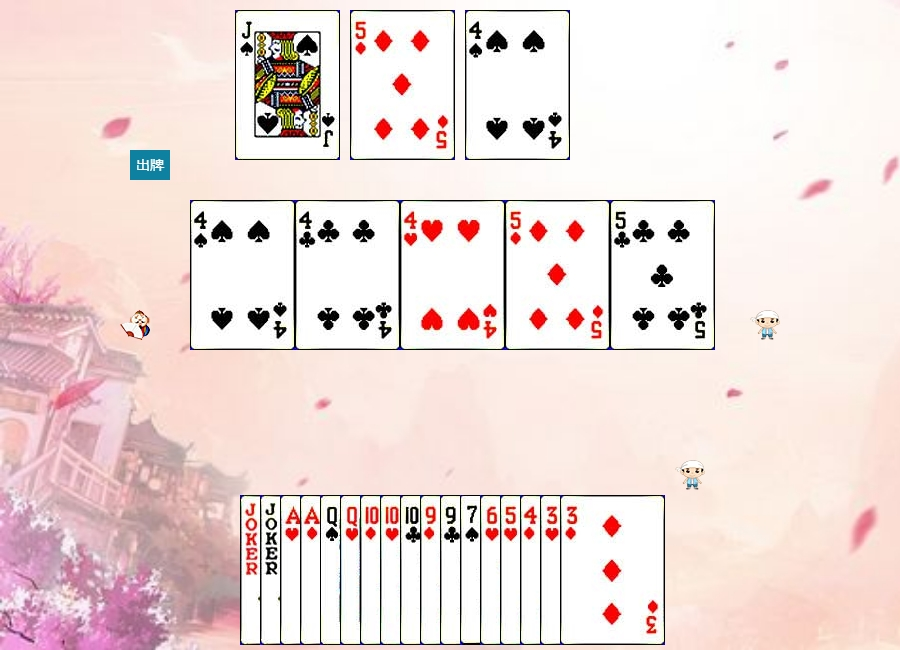10~1: (360, 495, 465, 645)
10~2: (400, 495, 505, 645)
10~3: (380, 495, 485, 645)
11~4: (235, 10, 340, 160)
12~3: (340, 495, 445, 645)
12~4: (320, 495, 425, 645)
14~1: (300, 495, 405, 645)
14~3: (280, 495, 385, 645)
17~3: (260, 495, 365, 645)
18~4: (240, 495, 345, 645)
3~1: (560, 495, 665, 645)
3~3: (540, 495, 645, 645)
4~1: (520, 495, 625, 645)
4~2: (295, 200, 400, 350)
4~3: (400, 200, 505, 350)
4~4: (465, 10, 570, 160), (190, 200, 295, 350)
5~1: (350, 10, 455, 160), (505, 200, 610, 350)
5~2: (610, 200, 715, 350)
5~3: (500, 495, 605, 645)
6~3: (480, 495, 585, 645)
7~4: (460, 495, 565, 645)
9~1: (420, 495, 525, 645)
9~2: (440, 495, 545, 645)
